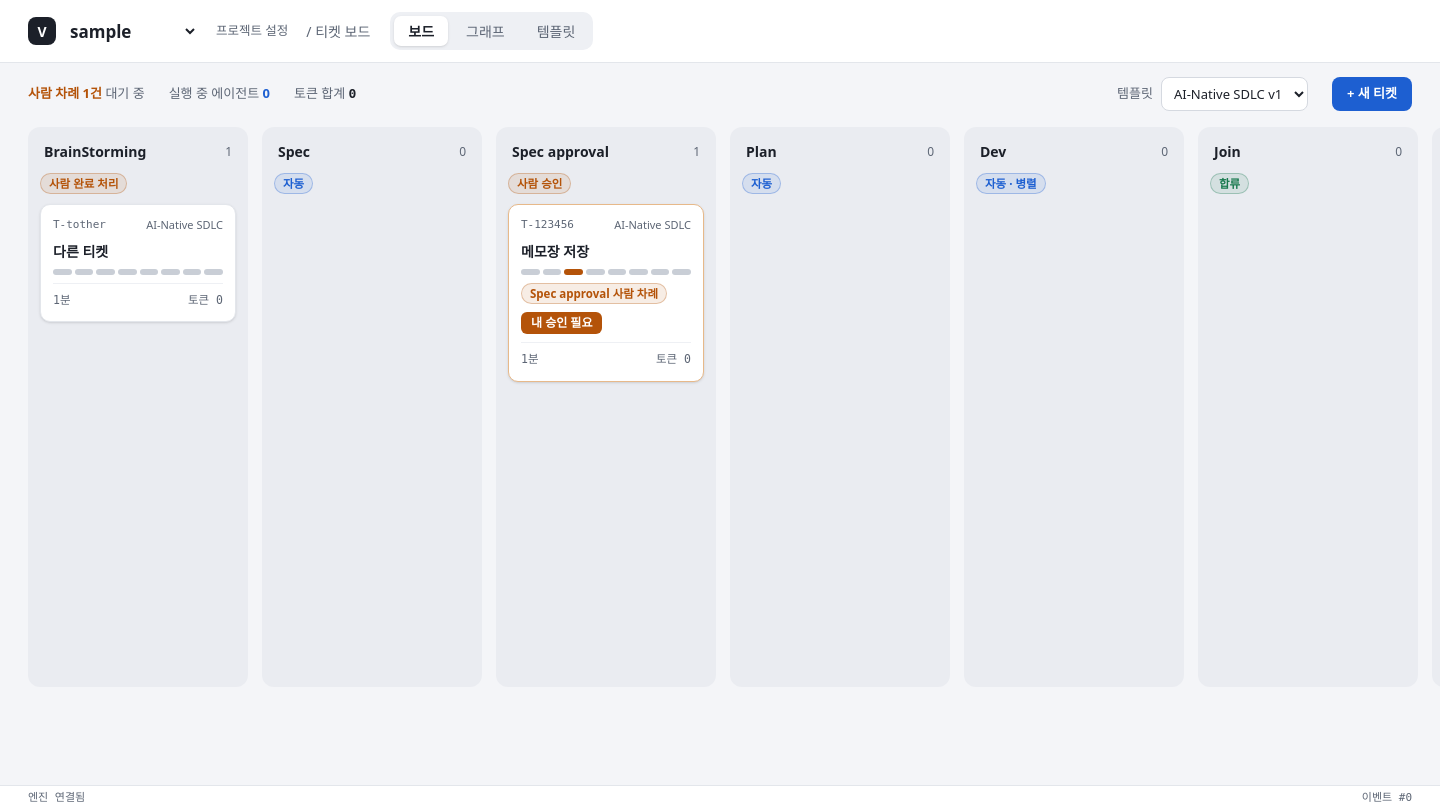
it: graph view and node detail › keeps the selected ticket when switching between the board and the graph
The width and height of the screenshot is (1440, 810).
Click the button "메모장 저장" at (606, 293), box [508,204,704,382]
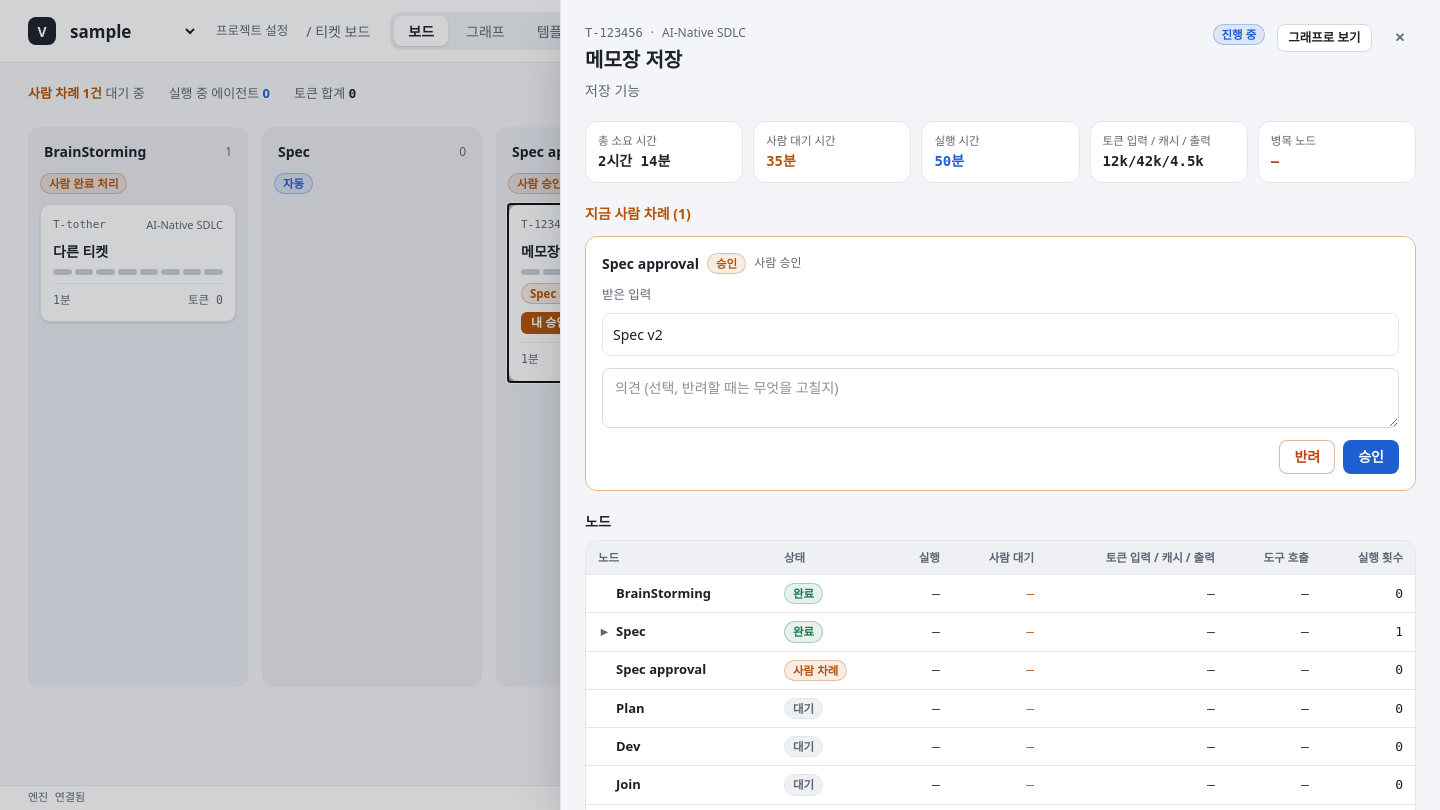
Note: The drawer offers the graph of the same ticket.
Click the button "그래프로 보기" at (1324, 38), box [1277,24,1372,52]
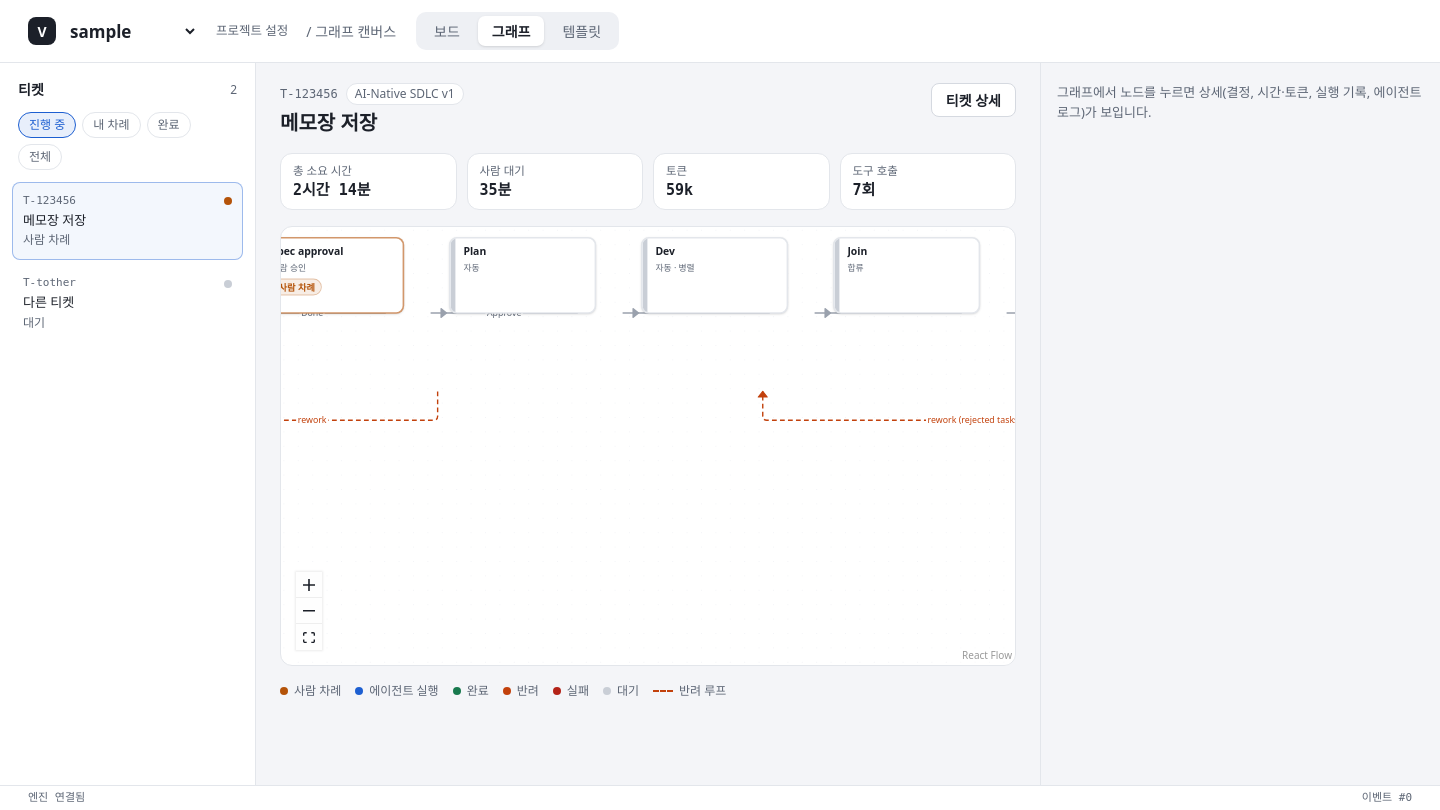
Expected: the element named "메모장 저장 그래프" is shown, [280,226,1016,666]
Click the button "보드" at (447, 31), box [420,16,474,46]
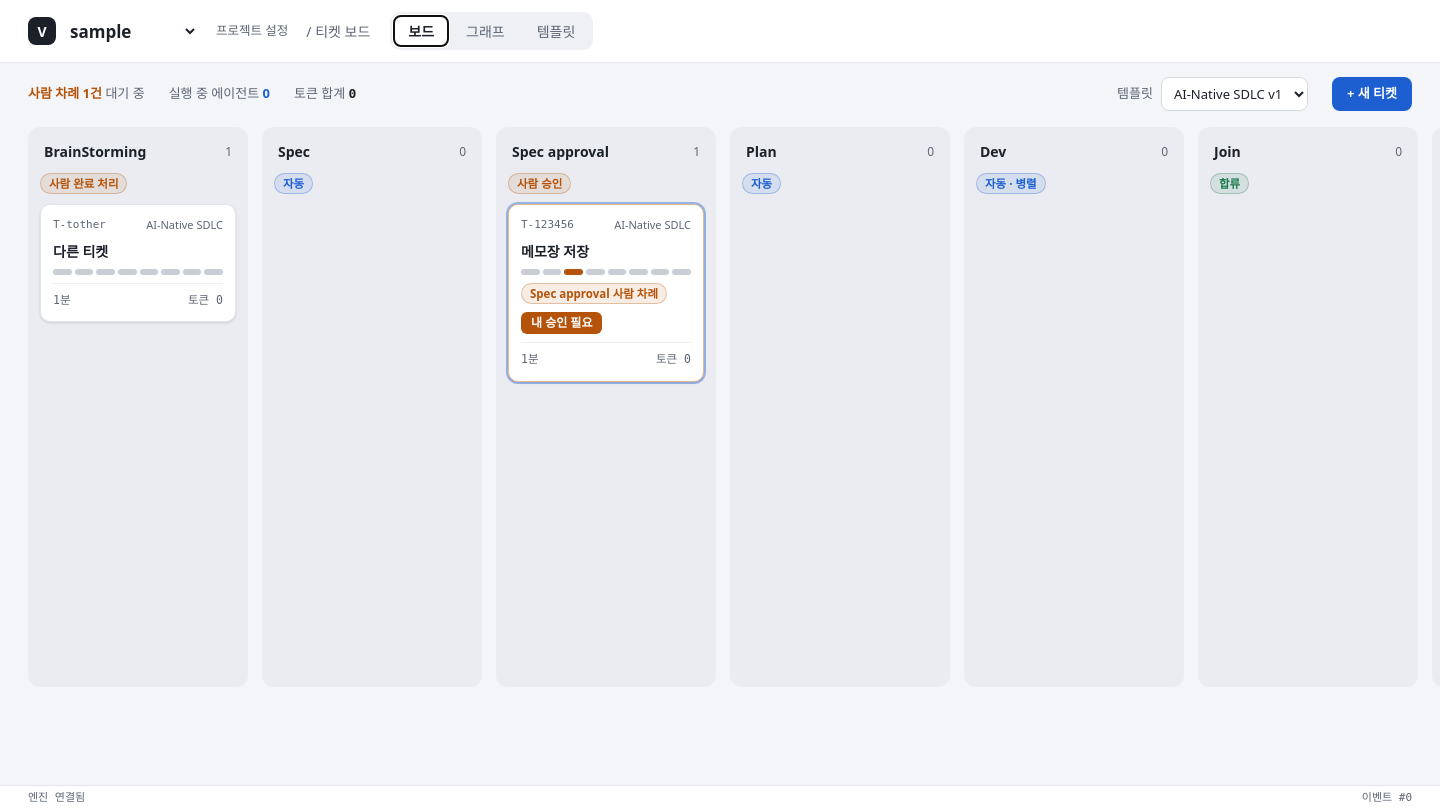
Expected: the button "티켓 상세" is gone
